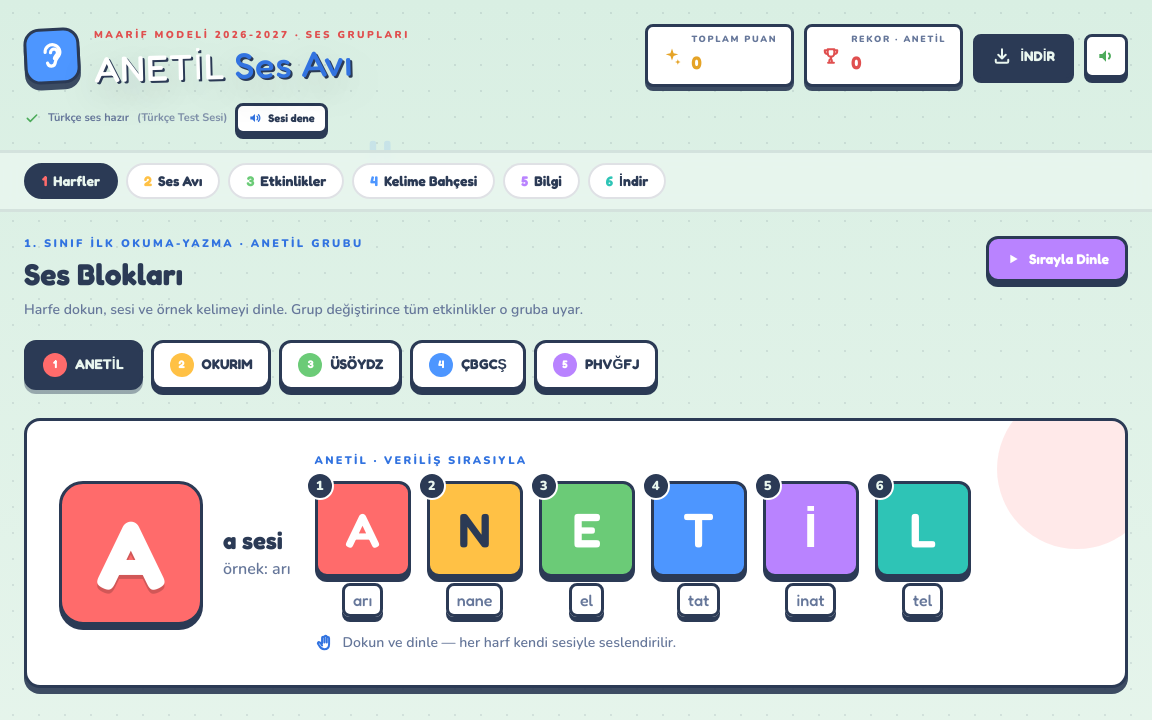
Test: App › sessize alma düğmesi etiketini değiştirir ve tercihi saklar
Click the button named "Sesi kapat".
click(1106, 56)  # box x1=1084 y1=34 x2=1128 y2=78
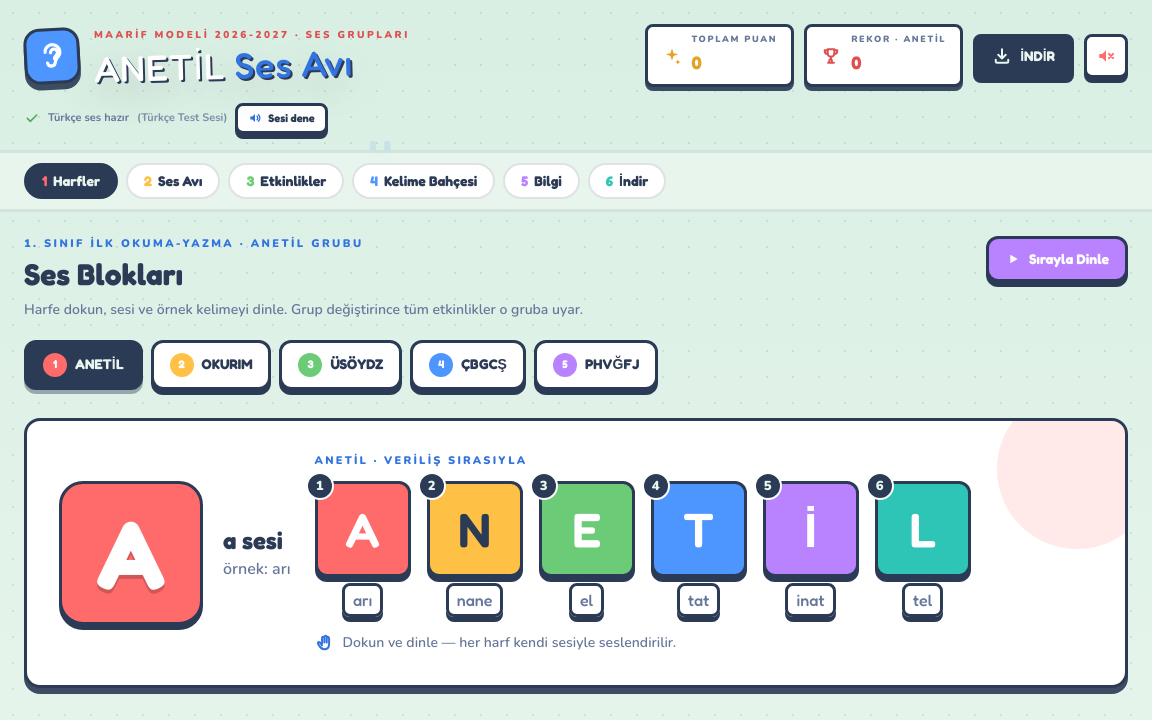
Check: the button named "Sesi aç" is shown, box x1=1084 y1=34 x2=1128 y2=78
